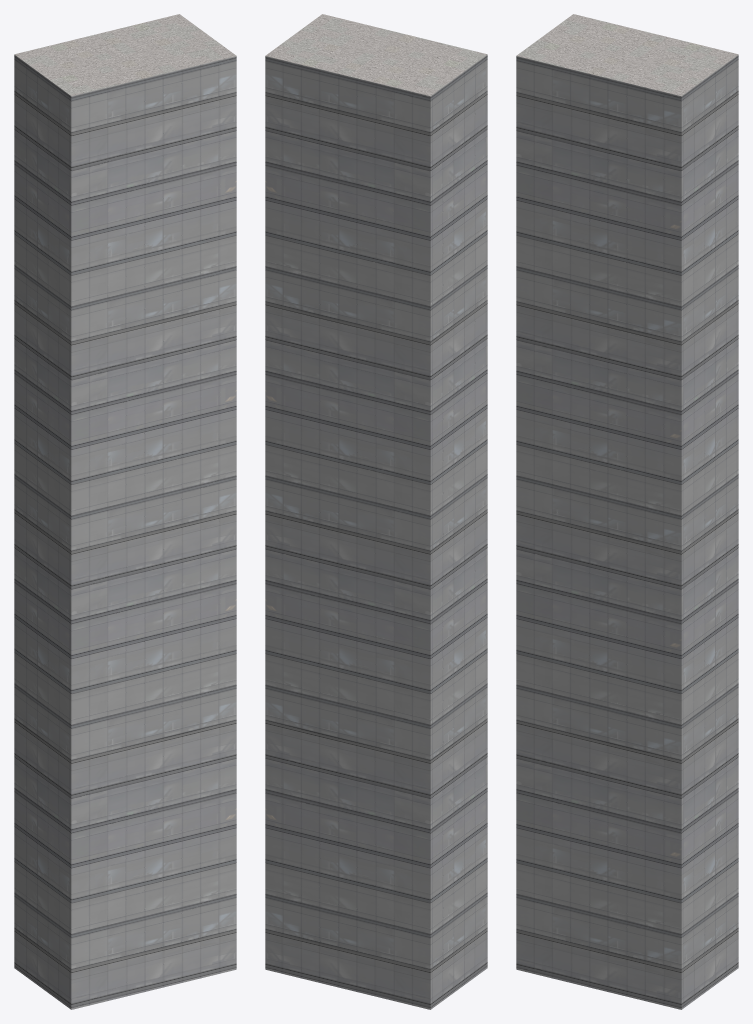
File: building29.gltf
3 renders of one model, left to right at view 1: azimuth 30°, elevation 25°; view 2: azimuth 150°, elevation 25°; view 3: azimuth 330°, elevation 25°, orthographic.
Visible parts, largest first — view 1: building29; view 2: building29; view 3: building29.
Part boxes in pixels (x1,y1,x2,y2): building29: [14, 14, 236, 1009]; building29: [265, 14, 487, 1009]; building29: [516, 14, 738, 1009].
Size of the model in its own units: 2.25 by 11.88 by 1.35.
Materials: 2 (2 with a texture image).
